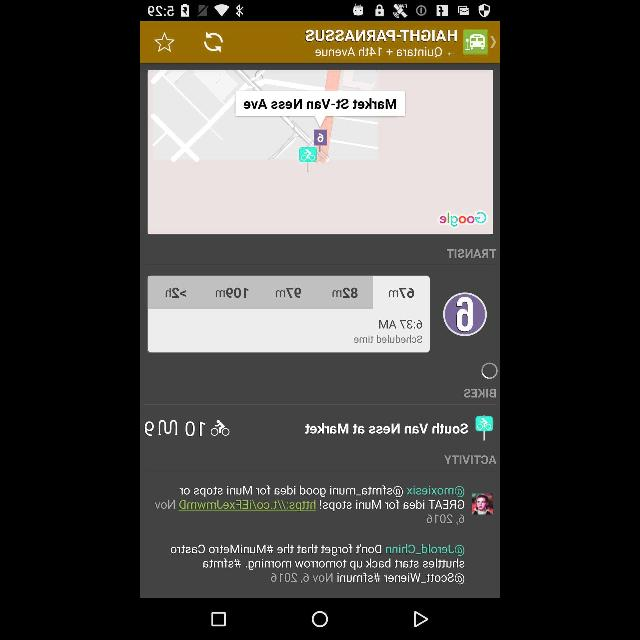icon: (203, 31, 224, 54), (154, 33, 176, 53), (160, 420, 178, 438), (312, 610, 328, 628), (212, 419, 228, 435), (414, 612, 428, 628), (212, 613, 226, 627), (490, 36, 496, 50)
image: (443, 288, 487, 338), (476, 414, 494, 442), (464, 30, 486, 51), (471, 492, 492, 514)
map: (148, 68, 494, 234)
multitab: (148, 276, 430, 308)
panel: (140, 21, 500, 64), (141, 600, 499, 640), (148, 306, 428, 352)
text: (152, 482, 466, 510), (199, 559, 466, 571), (170, 545, 464, 555), (268, 572, 468, 586), (306, 28, 456, 42), (302, 424, 468, 436), (314, 47, 456, 57), (354, 335, 422, 345), (422, 512, 468, 526), (446, 247, 494, 259), (378, 318, 422, 330), (444, 456, 496, 466), (465, 388, 497, 398), (186, 421, 204, 437), (146, 422, 154, 436)
uppertaskbar: (140, 0, 500, 20)
